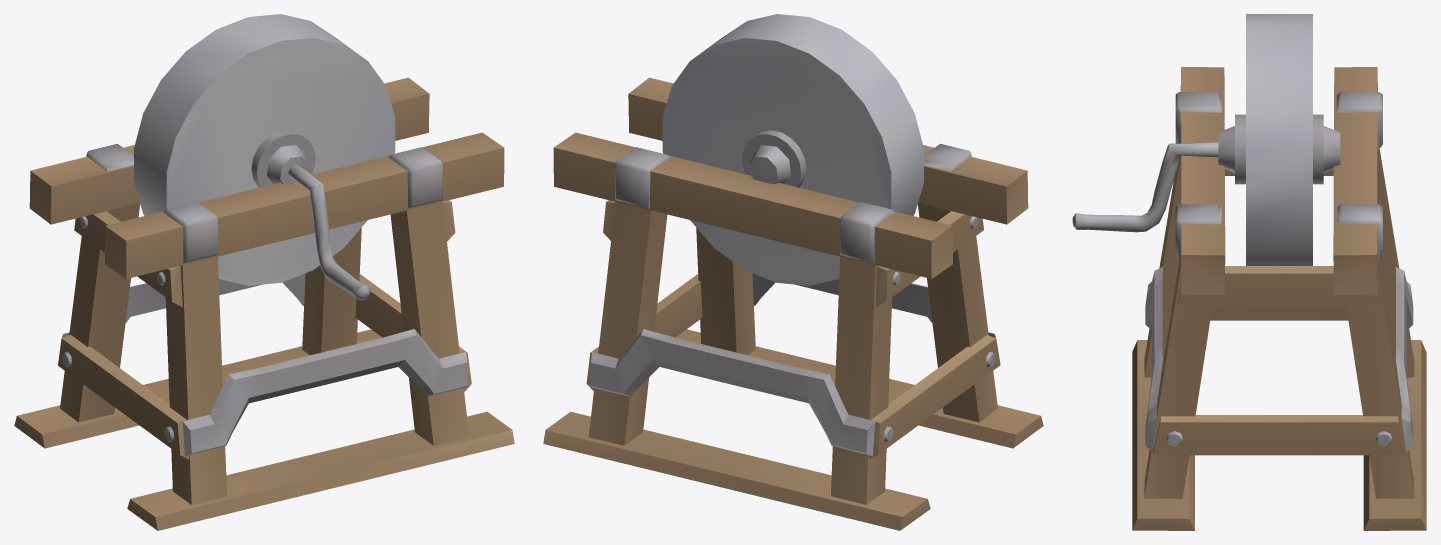
File: Whetstone.glb
3 renders of one model, left to right at view 1: azimuth 30°, elevation 25°; view 2: azimuth 150°, elevation 25°; view 3: azimuth 270°, elevation 25°, orthographic. The views are drawn at different scales.
Parts seen in each view (by area): view 1: Whetstone_6c4db3, Whetstone_003a36, Whetstone_7e5090; view 2: Whetstone_6c4db3, Whetstone_003a36, Whetstone_7e5090; view 3: Whetstone_6c4db3, Whetstone_003a36, Whetstone_7e5090.
Boxes of the visible parts, box(x1,y1,x2,y2) form: Whetstone_6c4db3: box(14, 77, 514, 530); Whetstone_003a36: box(134, 14, 395, 285); Whetstone_7e5090: box(62, 130, 468, 456); Whetstone_6c4db3: box(543, 77, 1043, 530); Whetstone_003a36: box(662, 14, 923, 285); Whetstone_7e5090: box(589, 130, 995, 456); Whetstone_6c4db3: box(1132, 67, 1426, 530); Whetstone_003a36: box(1246, 14, 1312, 265); Whetstone_7e5090: box(1072, 92, 1413, 451).
Bounding box in the file's own units: 1.14 × 1.17 × 0.9018.
